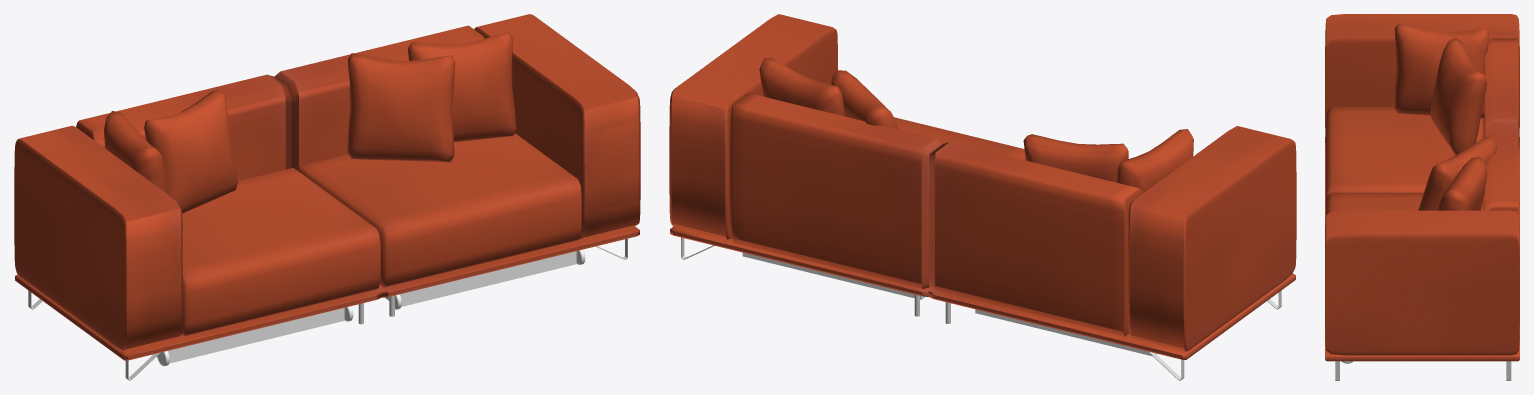
The model's file is sofa.glb.
The picture shows the model from 3 angles, left to right: view 1: azimuth 30°, elevation 25°; view 2: azimuth 150°, elevation 25°; view 3: azimuth 270°, elevation 25°; orthographic projection. The views are drawn at different scales.
Visible parts, largest first — view 1: IKEA-Tylosand_3_Seat_Sofa_Bed-3D; view 2: IKEA-Tylosand_3_Seat_Sofa_Bed-3D; view 3: IKEA-Tylosand_3_Seat_Sofa_Bed-3D.
Boxes of the visible parts, x1,y1,x2,y2 form: IKEA-Tylosand_3_Seat_Sofa_Bed-3D: (14,14,640,380); IKEA-Tylosand_3_Seat_Sofa_Bed-3D: (669,14,1296,380); IKEA-Tylosand_3_Seat_Sofa_Bed-3D: (1325,14,1519,380).
Bounding box in the file's own units: 2453 × 869 × 910.
3 materials, 1 textured.
